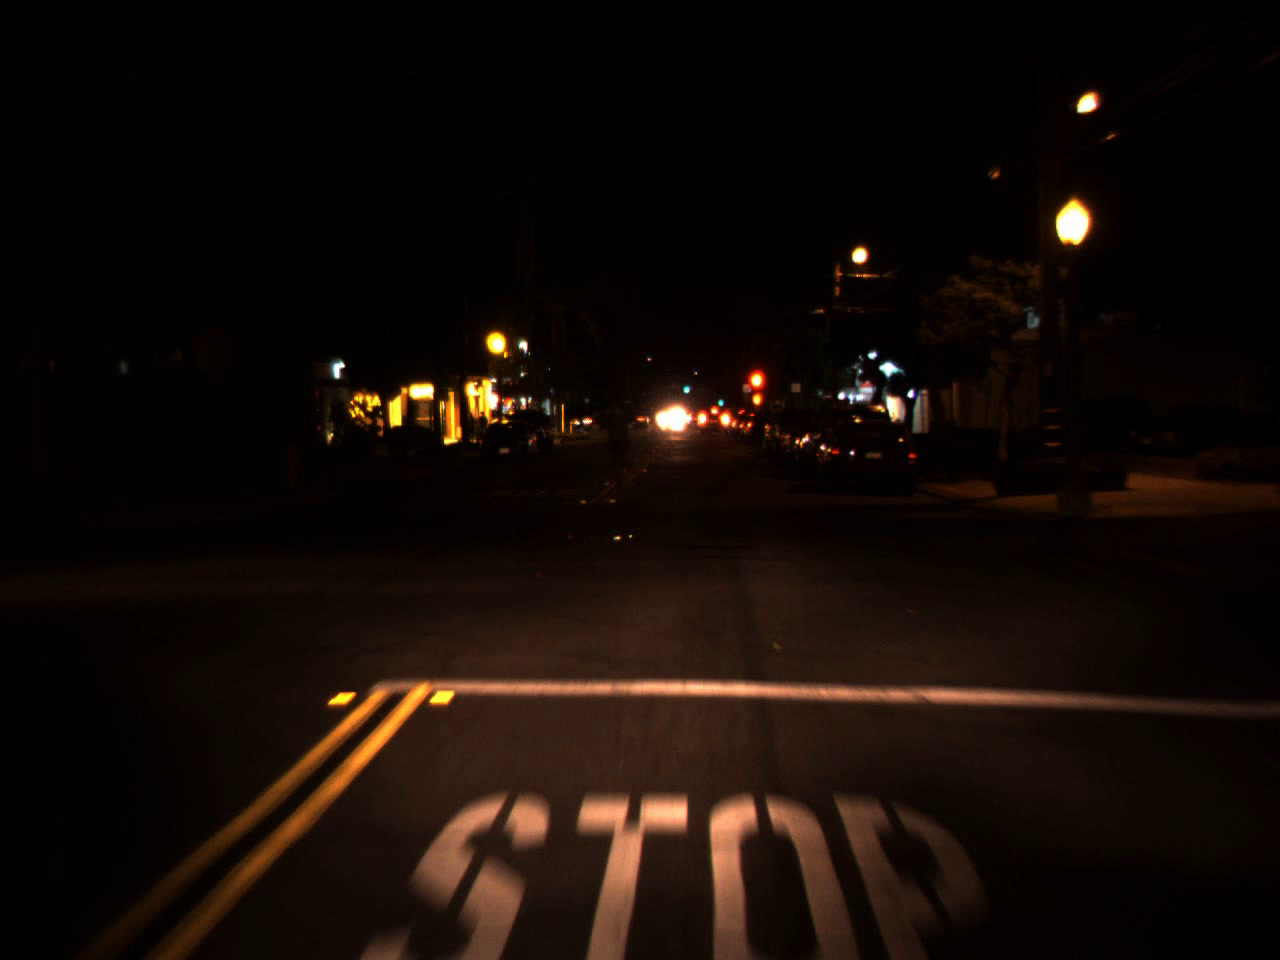go: (681, 378, 690, 393), (716, 393, 723, 408)
stop: (744, 365, 768, 419)
